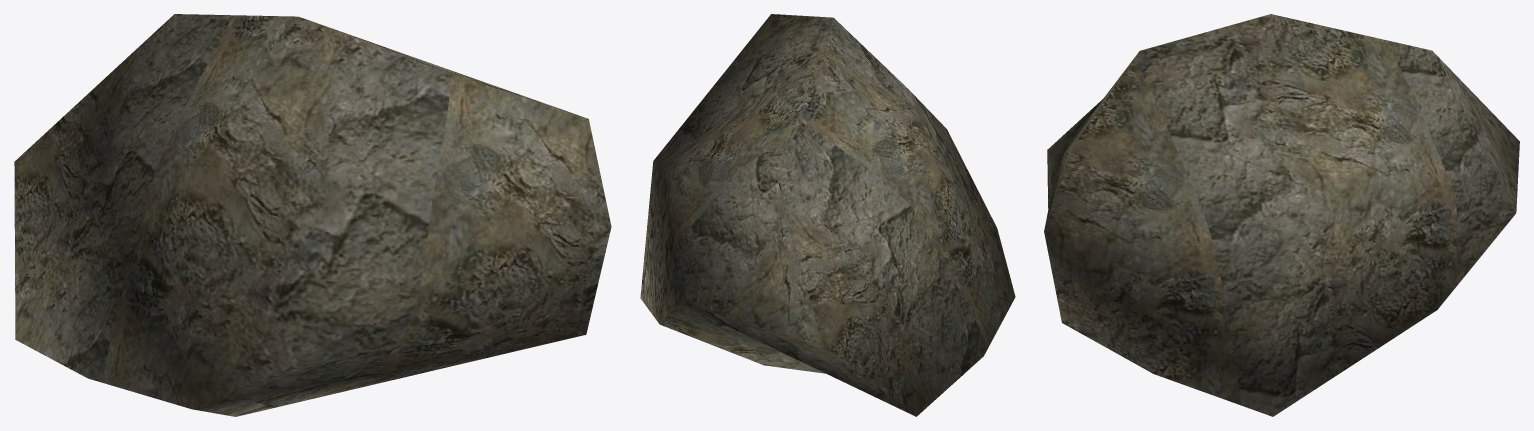
Rendered from MIN_MOB_STONE_V1_20.glb.
3 views of the same model, side by side, from view 1: azimuth 30°, elevation 25°; view 2: azimuth 150°, elevation 25°; view 3: azimuth 270°, elevation 25° (orthographic). The views are drawn at different scales.
Visible parts, largest first — view 1: Mesh; view 2: Mesh; view 3: Mesh.
Part boxes in pixels (<box>): Mesh: <box>14,14,611,416</box>; Mesh: <box>640,14,1015,416</box>; Mesh: <box>1044,14,1519,416</box>.
Bounding box in the file's own units: 1.52 × 1.17 × 1.65.
Materials: 1 (1 with a texture image).
